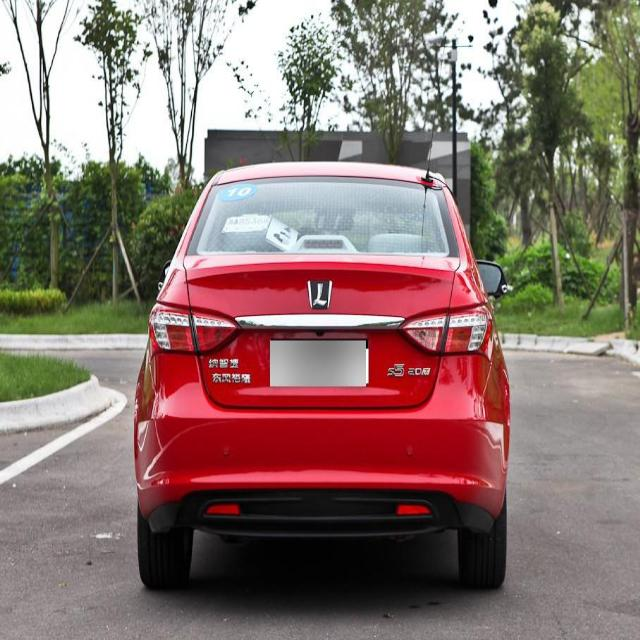back_glass: (185, 173, 460, 260)
back_left_side_light: (147, 297, 243, 356)
back_right_side_light: (397, 299, 493, 357)
front_right_side_mirror: (474, 260, 507, 300)
rear_bumper: (133, 347, 511, 532)
